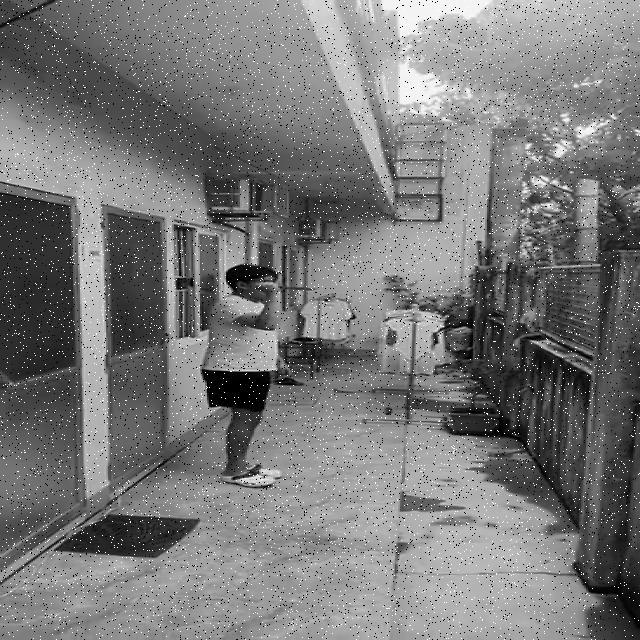knife: (274, 284, 314, 294)
non-violence: (202, 264, 315, 491)
